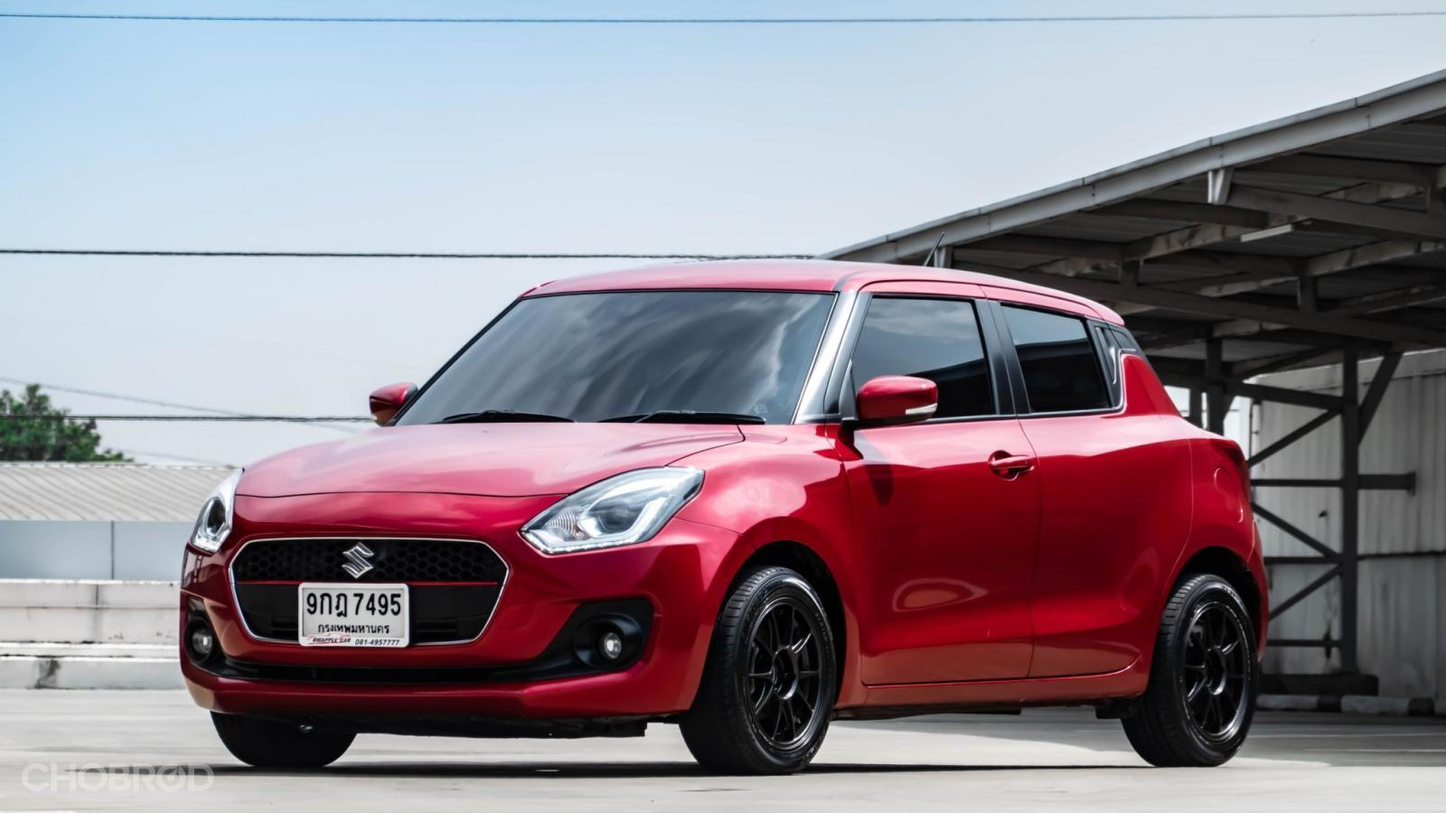license-plate: (296, 581, 414, 651)
